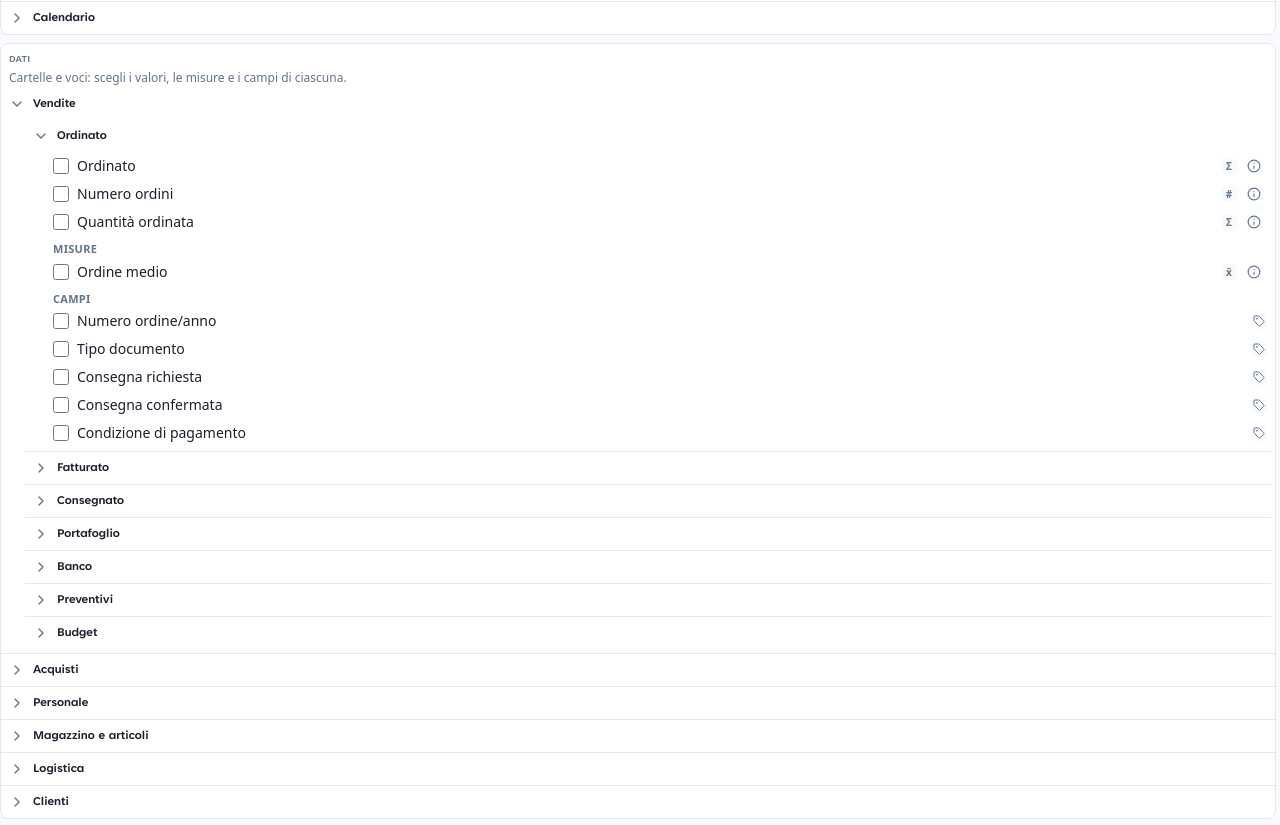
l'albero: operazioni, misure, documento › le medie e i tassi stanno dentro la voce, sotto «Misure»; non c'e' piu' una sezione Misure a parte
The width and height of the screenshot is (1280, 825).
(page scrolled)
Click the button "Preventivi". click: coordinates (85, 600)
box: [25,584,1271,616]
(page scrolled)
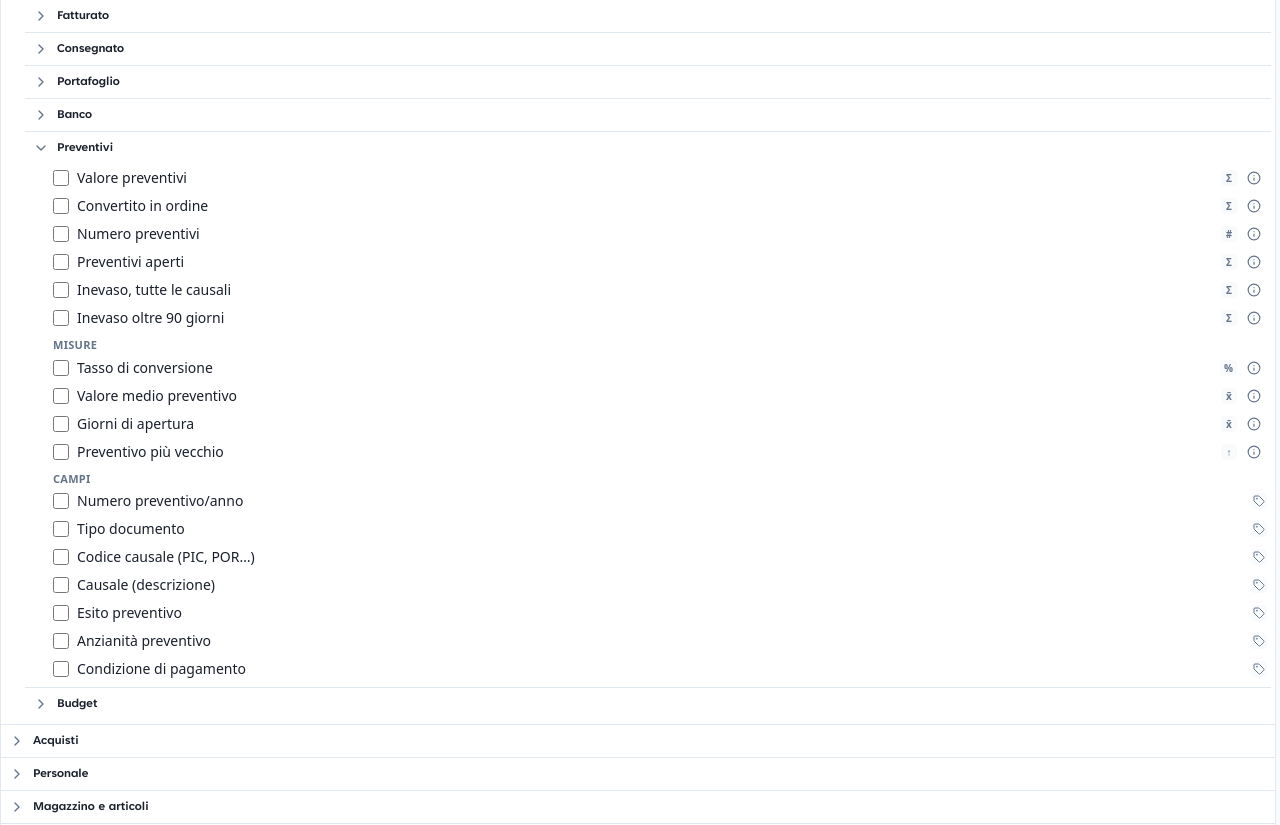
Expected: the checkbox labelled "Valore medio preventivo" is shown, [53,388,69,404]
Expected: the checkbox labelled "Tasso di conversione" is shown, [53,360,69,376]
Expected: the checkbox labelled "Giorni di apertura" is shown, [53,416,69,432]
